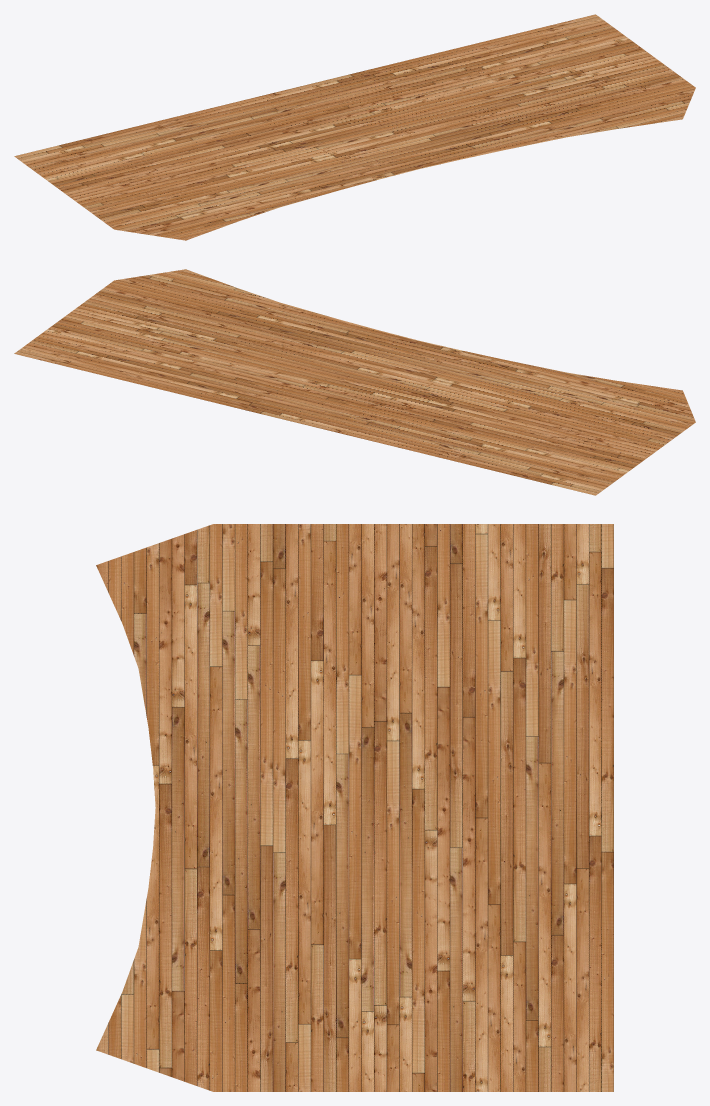
Rendered from buildingv3_middlefloor.fbx.
The picture shows the model from 3 angles, top to bottom: view 1: azimuth 30°, elevation 25°; view 2: azimuth 150°, elevation 25°; view 3: azimuth 270°, elevation 25°; orthographic projection. The views are drawn at different scales.
Visible parts, largest first — view 1: polySurface15; view 2: polySurface15; view 3: polySurface15.
Boxes of the visible parts, left/top/right/bottom form: polySurface15: left=14, top=14, right=695, bottom=240; polySurface15: left=14, top=269, right=695, bottom=495; polySurface15: left=96, top=524, right=613, bottom=1091.
Bounding box in the file's own units: 207 × 0.035 × 79.63.
